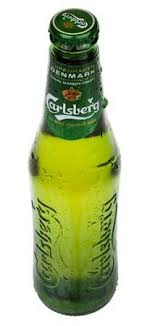beer: (31, 9, 120, 317)
